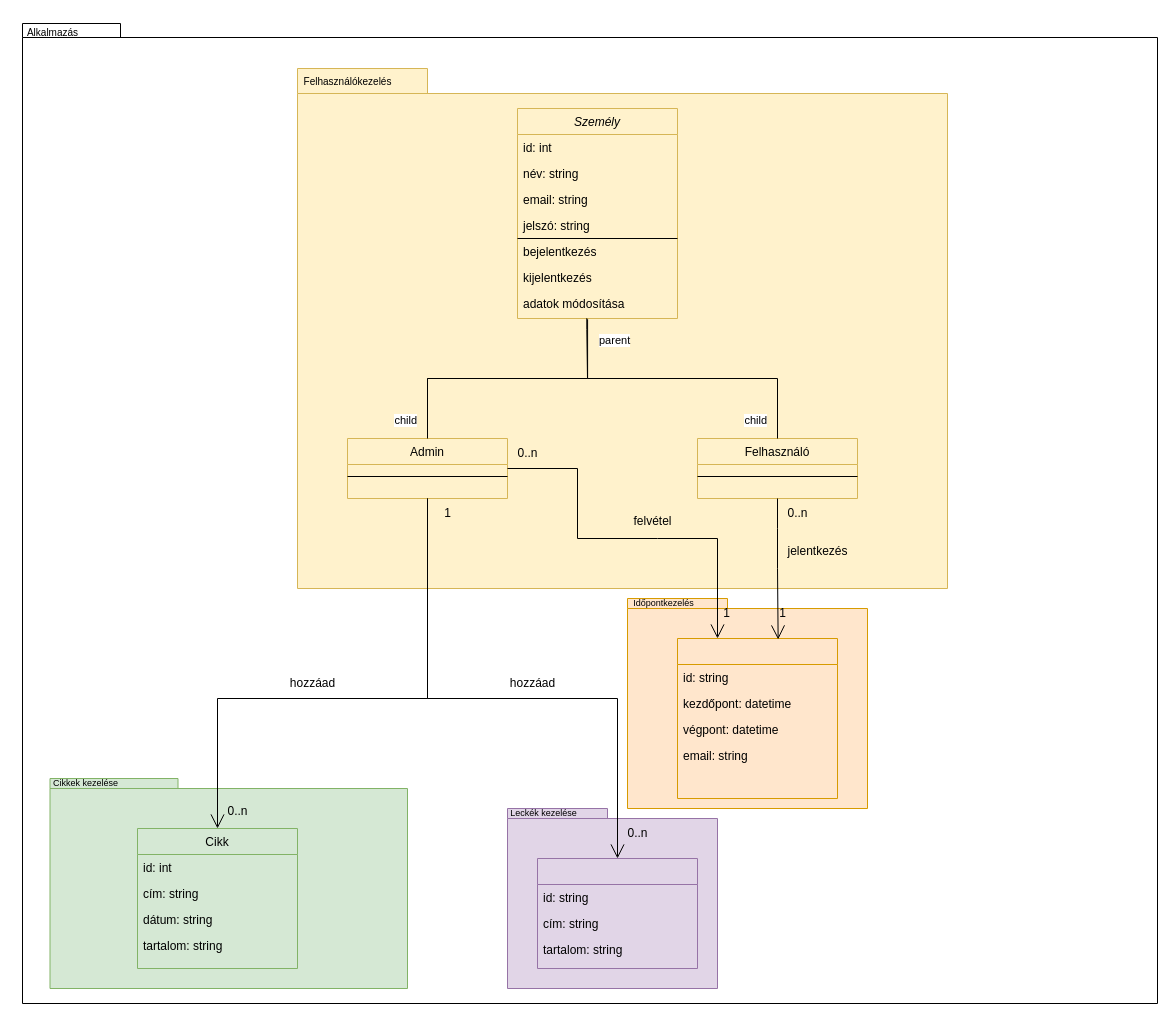
The diagram is 1175 pixels wide and 1021 high, and some of its shapes have lost their labels. Each missing label, with the box of its shape:
Időpont: (676, 638, 838, 798)
Lecke: (536, 858, 698, 968)
